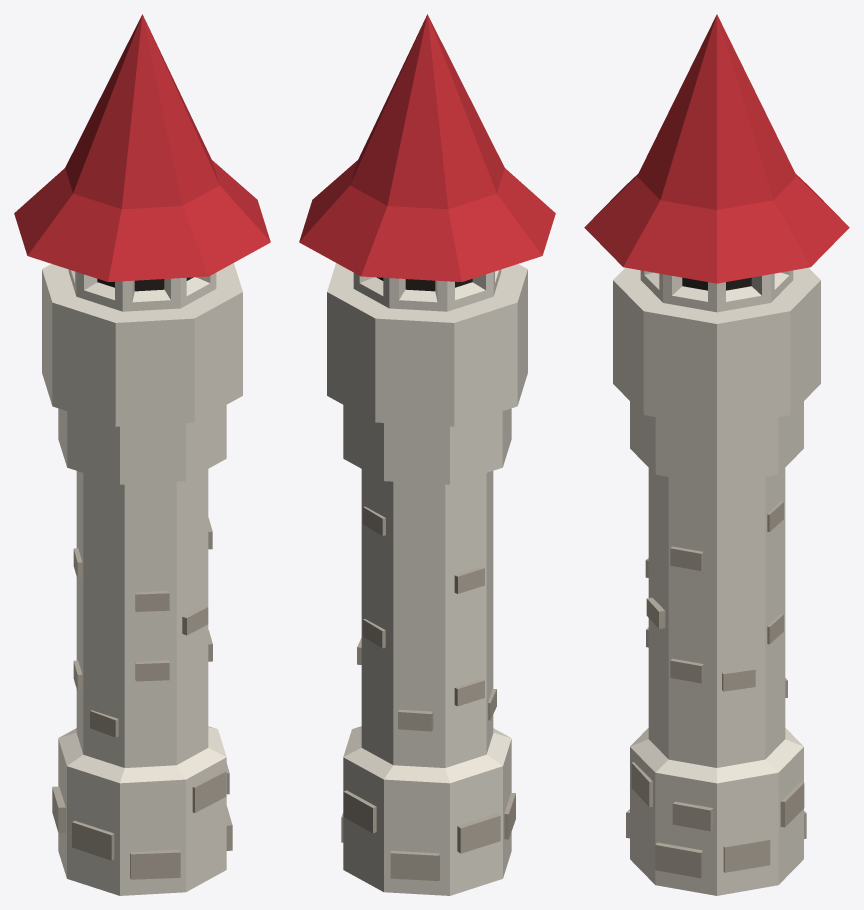
The model's file is pointytower.glb.
3 renders of one model, left to right at view 1: azimuth 30°, elevation 25°; view 2: azimuth 150°, elevation 25°; view 3: azimuth 270°, elevation 25°, orthographic.
Parts seen in each view (by area): view 1: PointyTower; view 2: PointyTower; view 3: PointyTower.
Part boxes in pixels (x1,y1,x2,y2): PointyTower: (14,14,270,895); PointyTower: (299,14,555,895); PointyTower: (584,14,849,895).
Size of the model in its own units: 1.53 by 5.37 by 1.53.
